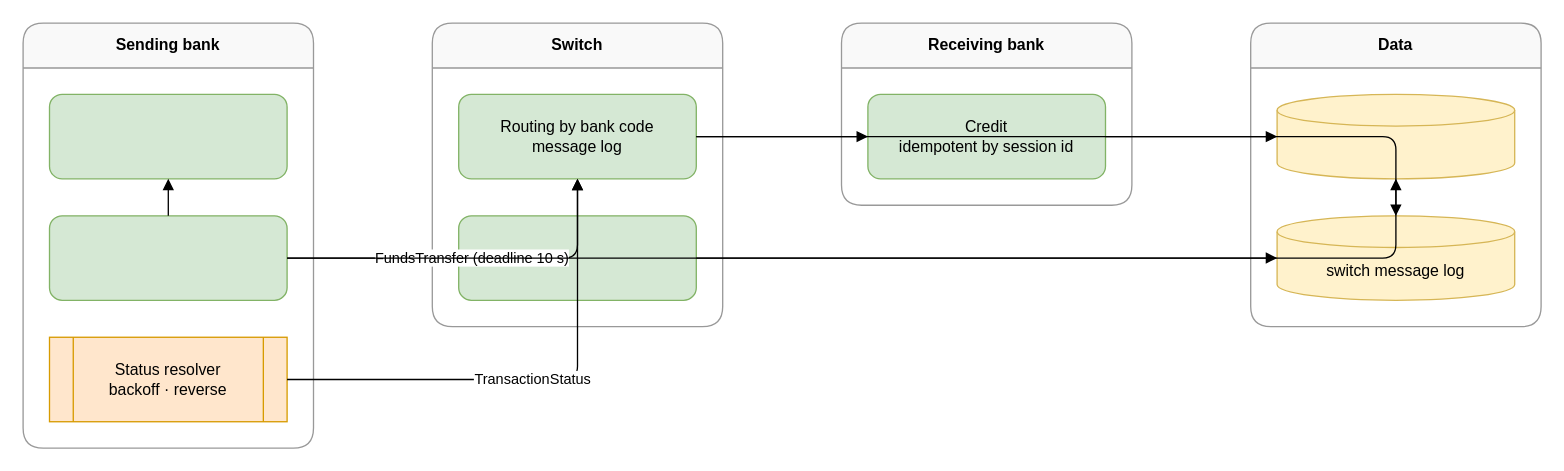
Image size: 1564x471. Some labels were removed from this diagram. Each missing label, with the centre of its shape:
"accounts · transfers per bank" belongs at point 1395,136.
"Name enquiry cached 10 min" belongs at point 167,136.
"Settlement net positions stream" belongs at point 576,257.
"Transfer local debit · send" belongs at point 167,257.
